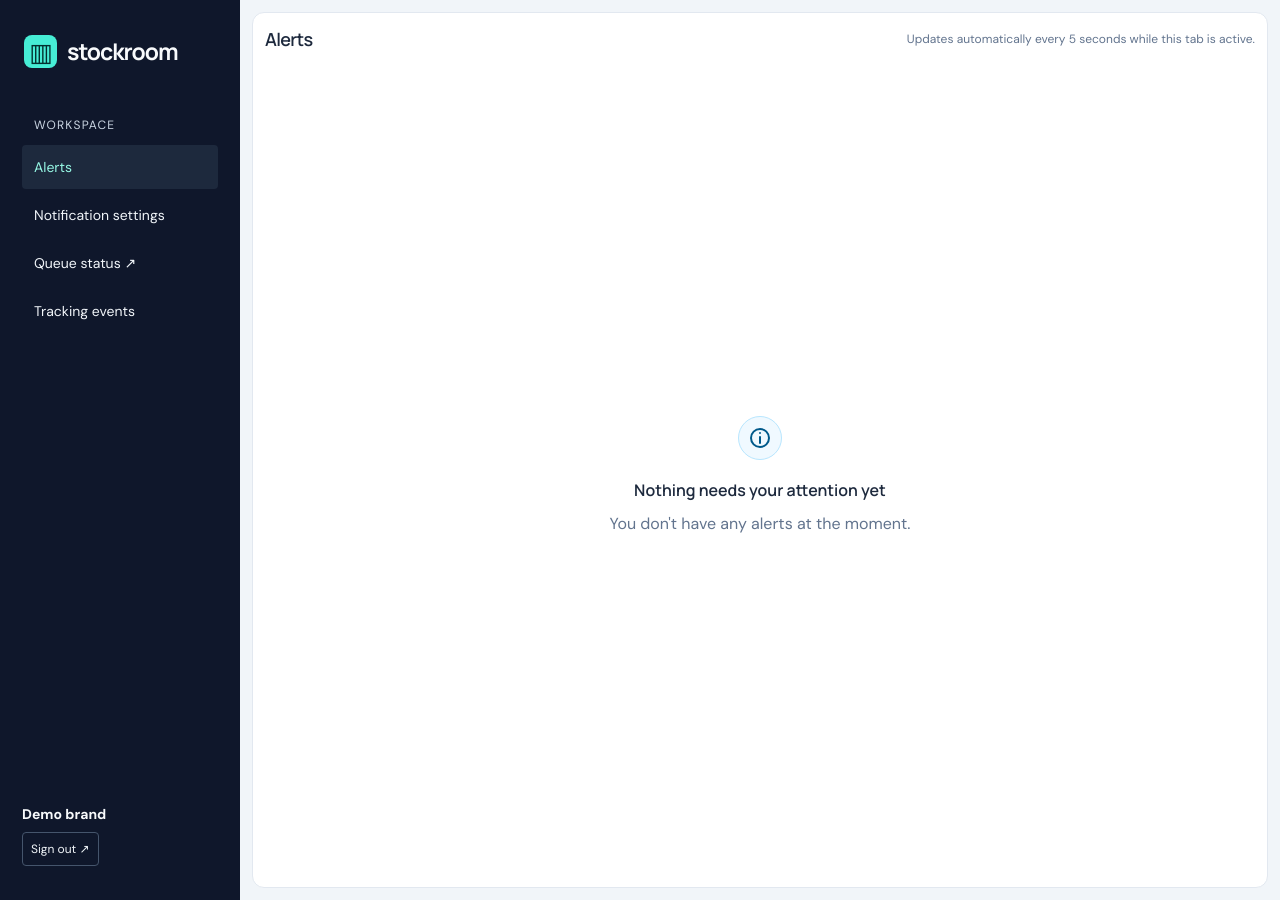
Scenario: opens notification settings from the workspace navigation
Click the link "Notification settings" at (99, 214), box [34,206,165,224]
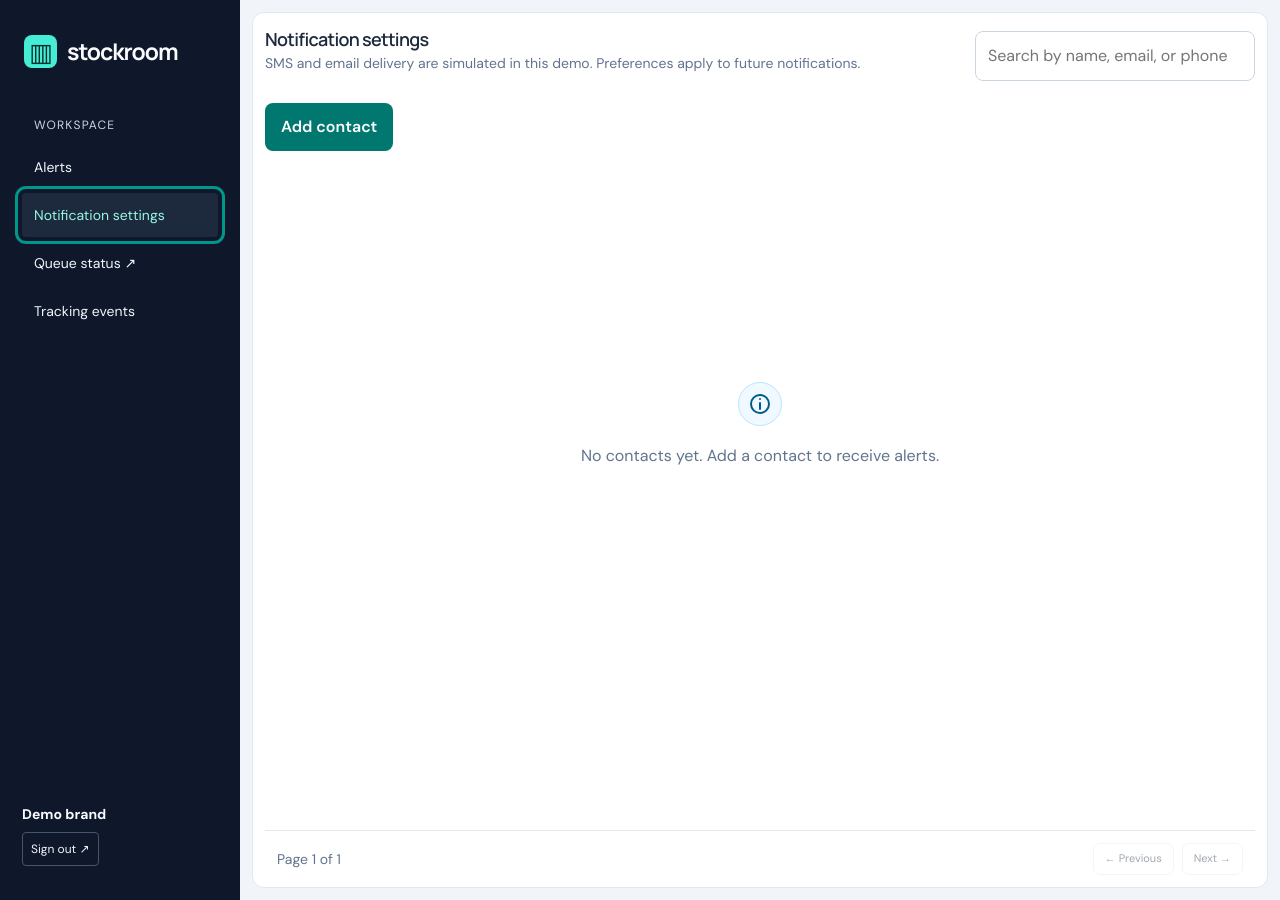
Expected: the heading "Notification settings" is shown, [265,27,428,51]
